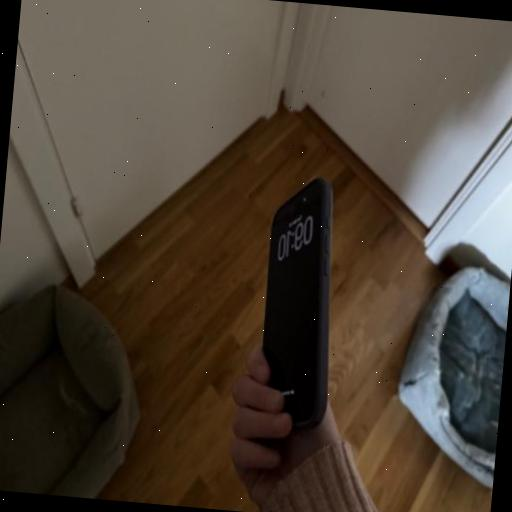phone: (232, 174, 334, 459)
